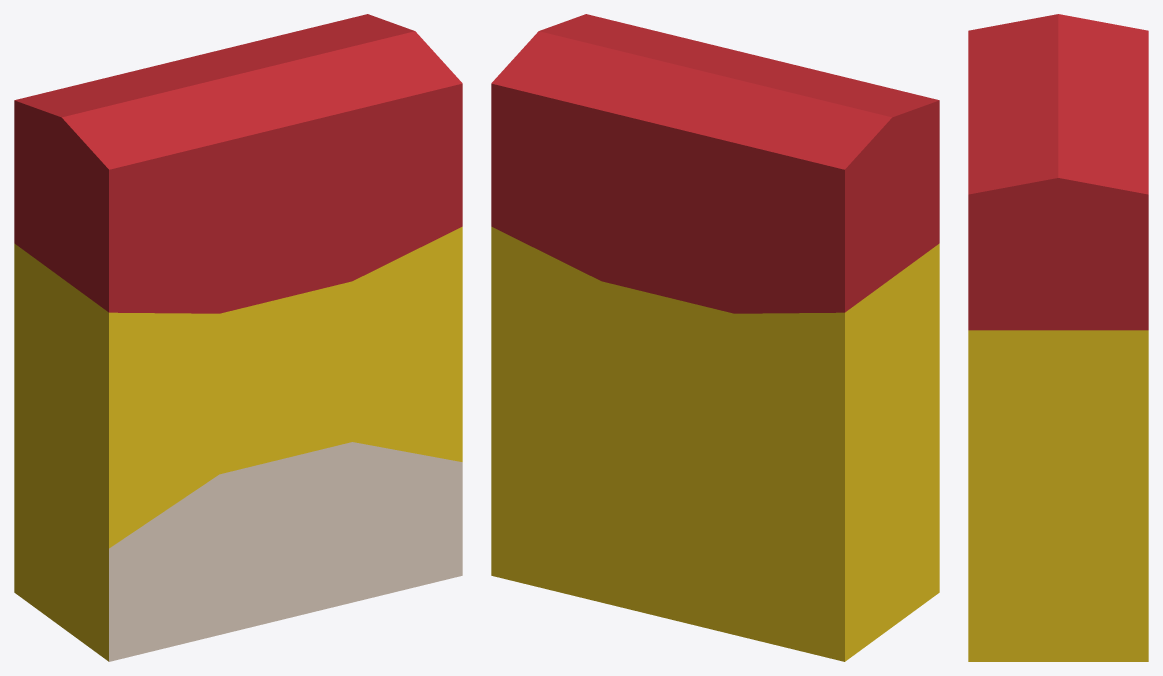
Rendered from food_rice-box.fbx.
The picture shows the model from 3 angles, left to right: view 1: azimuth 30°, elevation 25°; view 2: azimuth 150°, elevation 25°; view 3: azimuth 270°, elevation 25°; orthographic projection. The views are drawn at different scales.
Parts seen in each view (by area): view 1: food_rice_box; view 2: food_rice_box; view 3: food_rice_box.
Part boxes in pixels (x1=…): food_rice_box: x1=14, y1=14, x2=462, y2=661; food_rice_box: x1=491, y1=14, x2=939, y2=661; food_rice_box: x1=968, y1=14, x2=1148, y2=661.
Size of the model in its own units: 145 by 200 by 67.55.
